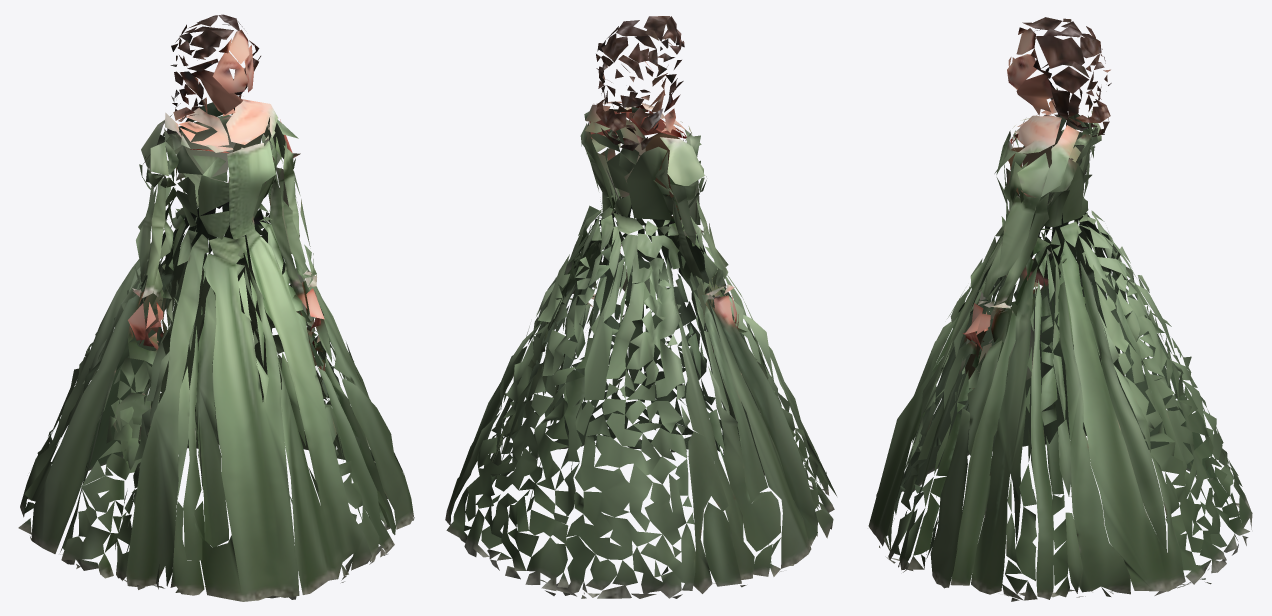
Rendered from char_actor_f.glb.
3 views of the same model, side by side, from view 1: azimuth 30°, elevation 25°; view 2: azimuth 150°, elevation 25°; view 3: azimuth 270°, elevation 25° (orthographic).
Visible parts, largest first — view 1: geometry_0; view 2: geometry_0; view 3: geometry_0.
Part boxes in pixels (bbox=[...]): geometry_0: bbox=[18, 14, 414, 601]; geometry_0: bbox=[445, 16, 836, 598]; geometry_0: bbox=[868, 17, 1252, 601].
Bounding box in the file's own units: 1.17 × 1.69 × 1.17.
Materials: 1 (1 with a texture image).
